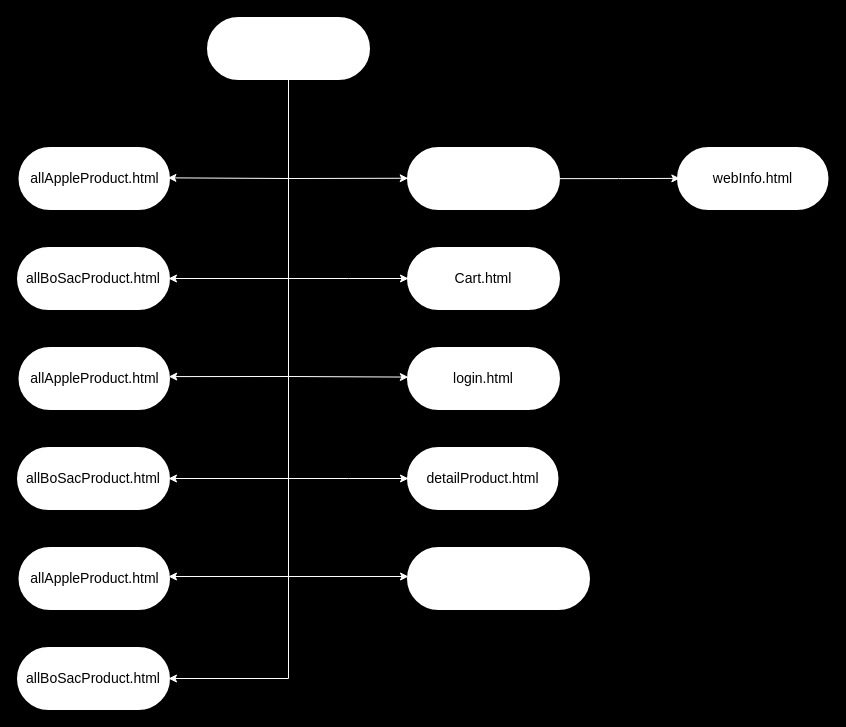
Image size: 846x727. Some labels were removed from this diagram. The shapes that lost their labels are listed below. From the top down, each one's box as (x1, y1, x2, y2) in pixels, then its label:
(206, 16, 370, 80): index.html
(406, 146, 560, 210): userPage.html
(406, 546, 590, 610): searchProductResult.html
